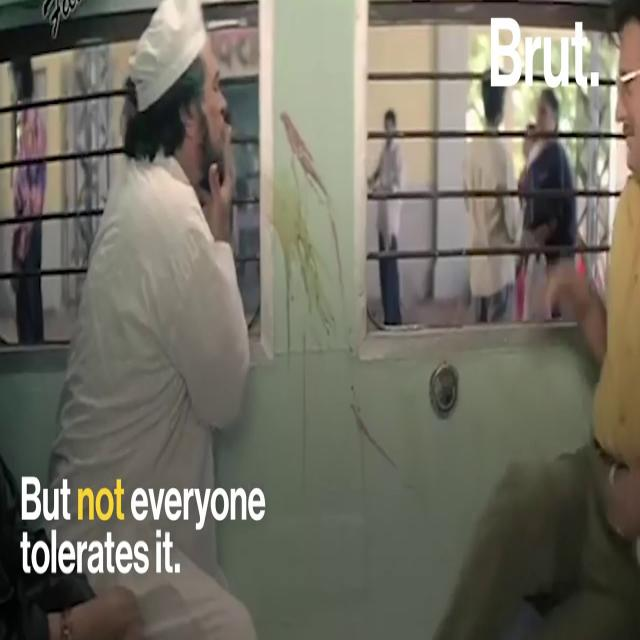spit: (202, 72, 363, 365)
